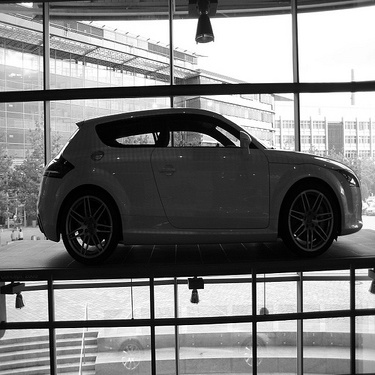car: (25, 103, 368, 264)
